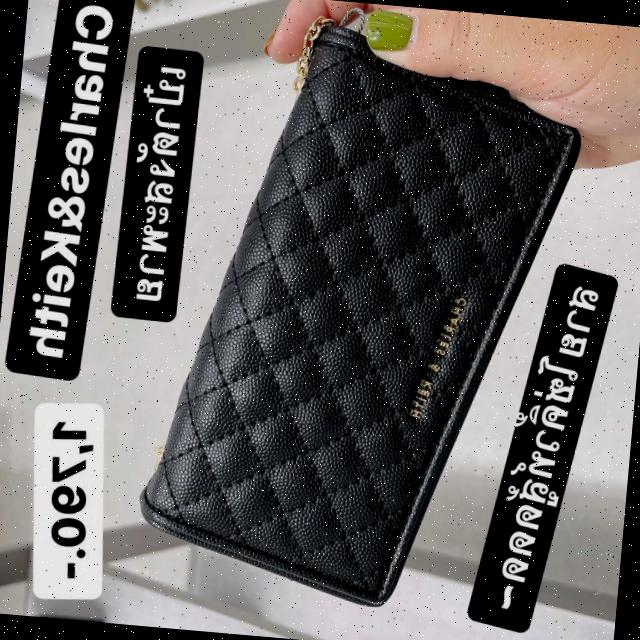Handbag: (127, 0, 595, 635)
